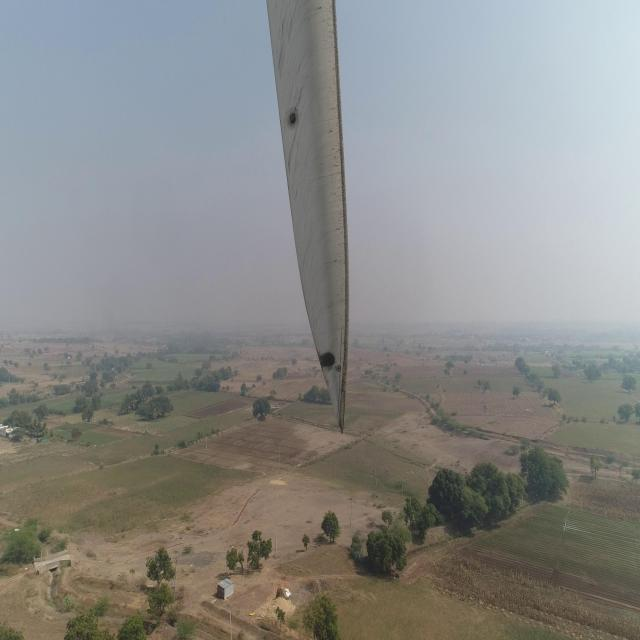Dirt: (267, 0, 349, 421)
Oil LEAKAGE: (314, 347, 338, 372)
Pin Hole: (285, 108, 300, 128)
